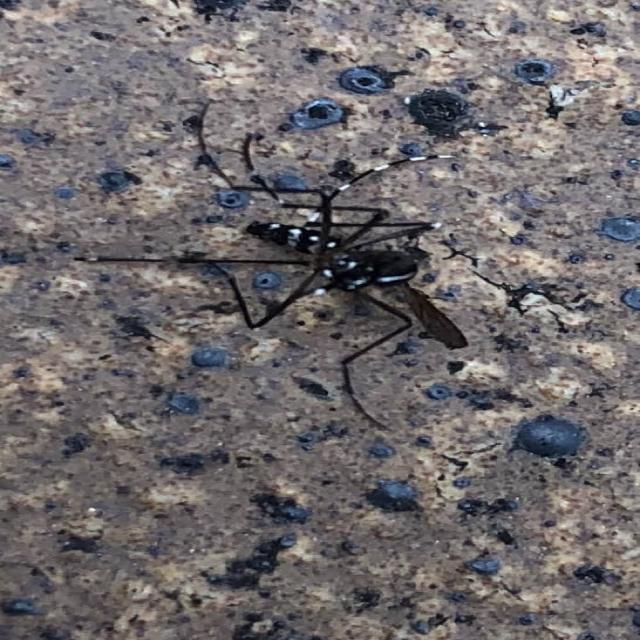albopictus: (105, 83, 551, 395)
